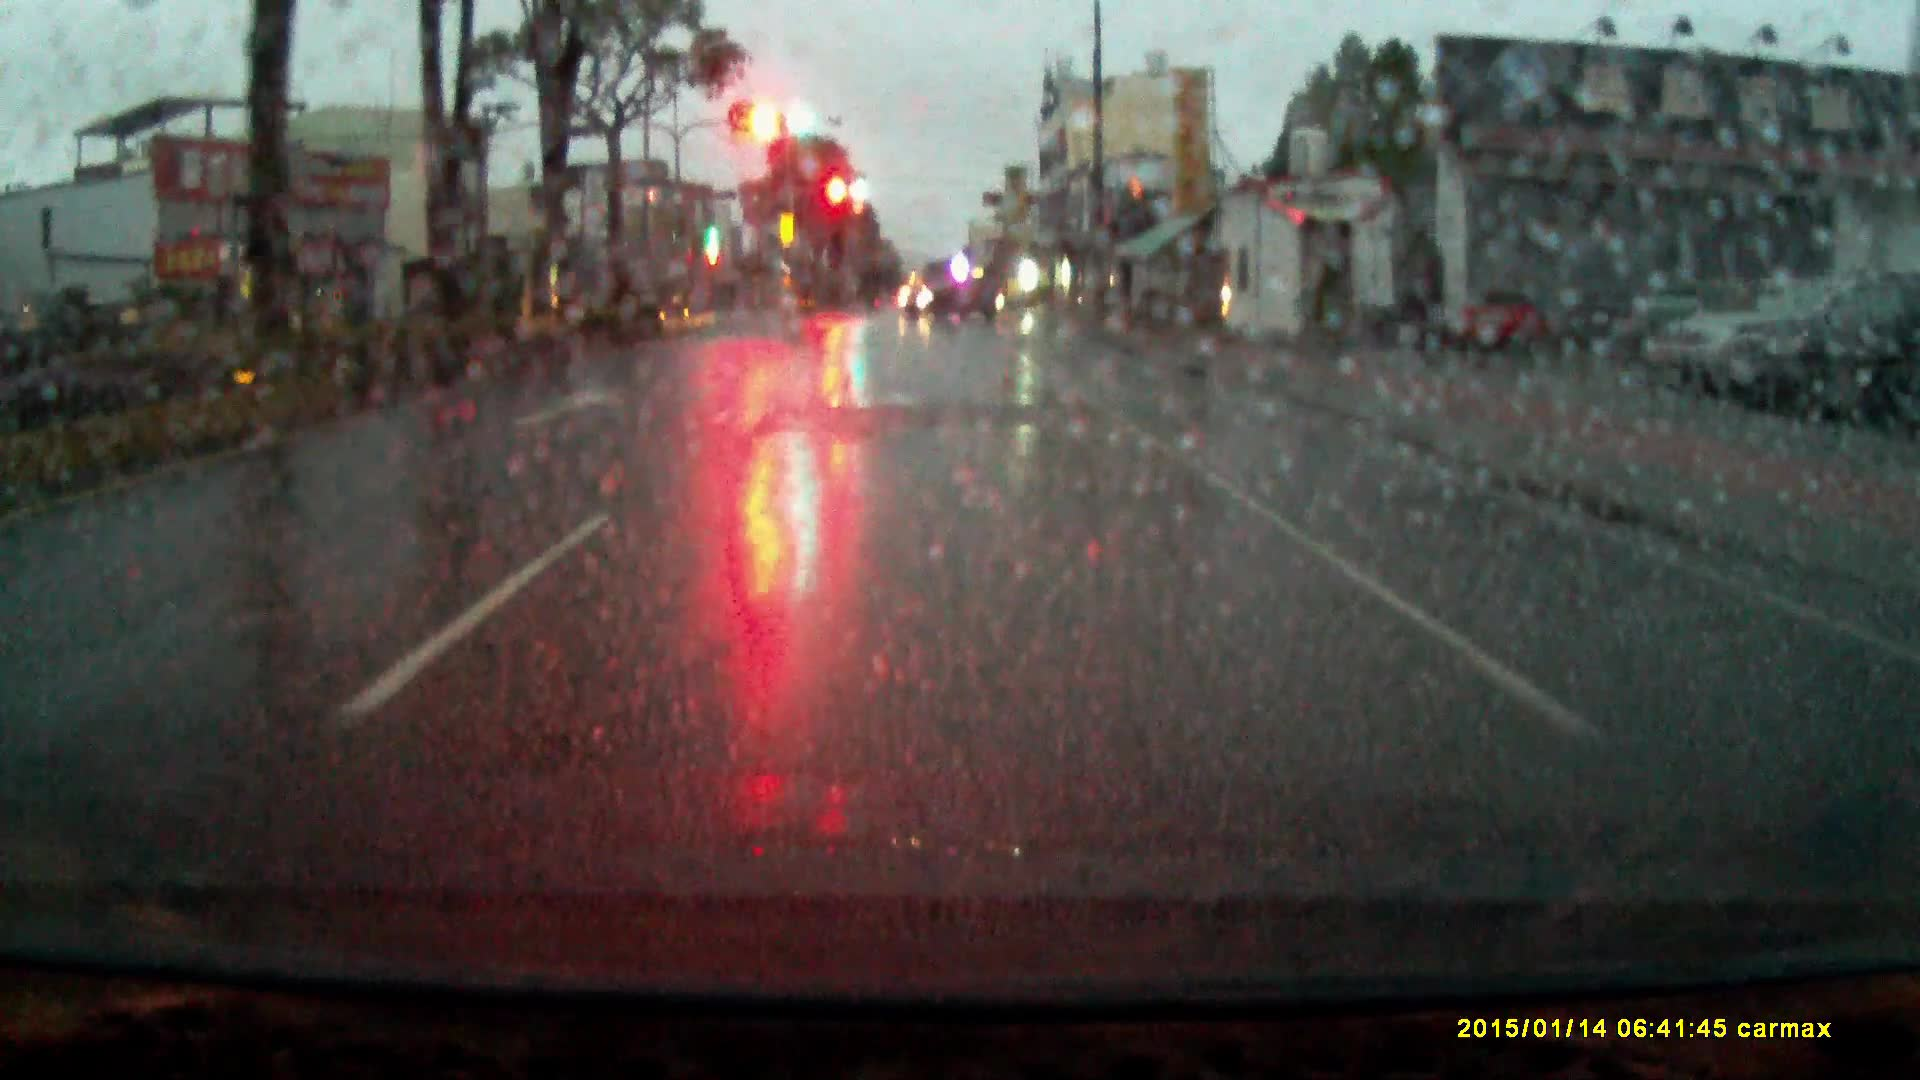vehicle: (1654, 277, 1920, 406), (1767, 290, 1920, 422), (899, 276, 996, 326)
